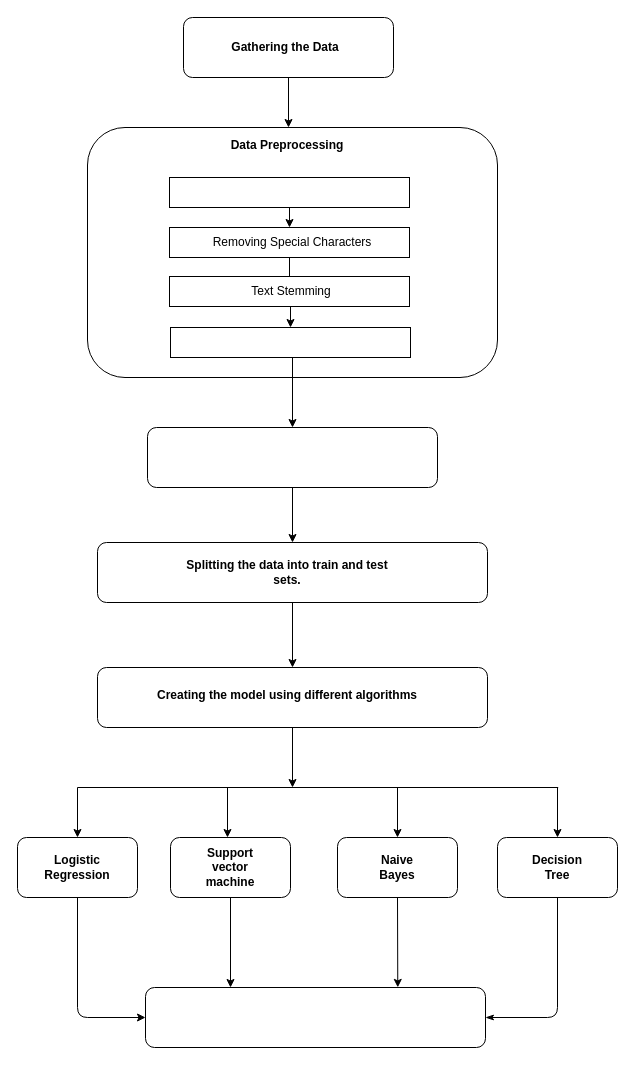
This 635x1065 diagram has some shape labels left out. Here are the shapes that lost their labels. From the top down, the box of each, then its label:
(168, 176, 410, 208): Removing html strips and noise text
(170, 326, 410, 358): Removing Stopwords
(146, 426, 438, 488): Feature Extraction (Bag of words)
(144, 986, 486, 1048): Finding the best Algorithm
